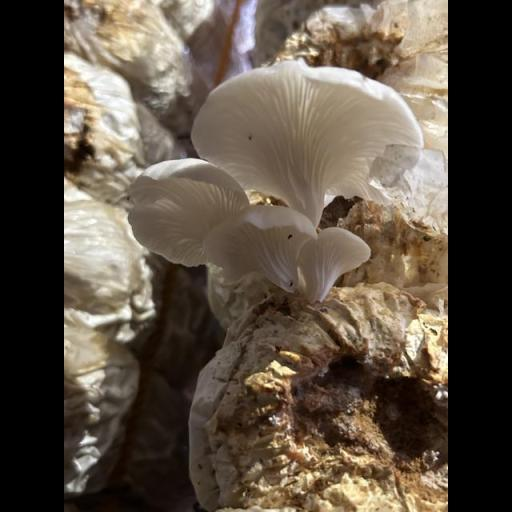White Oyster Mushroom: (122, 60, 420, 301)
